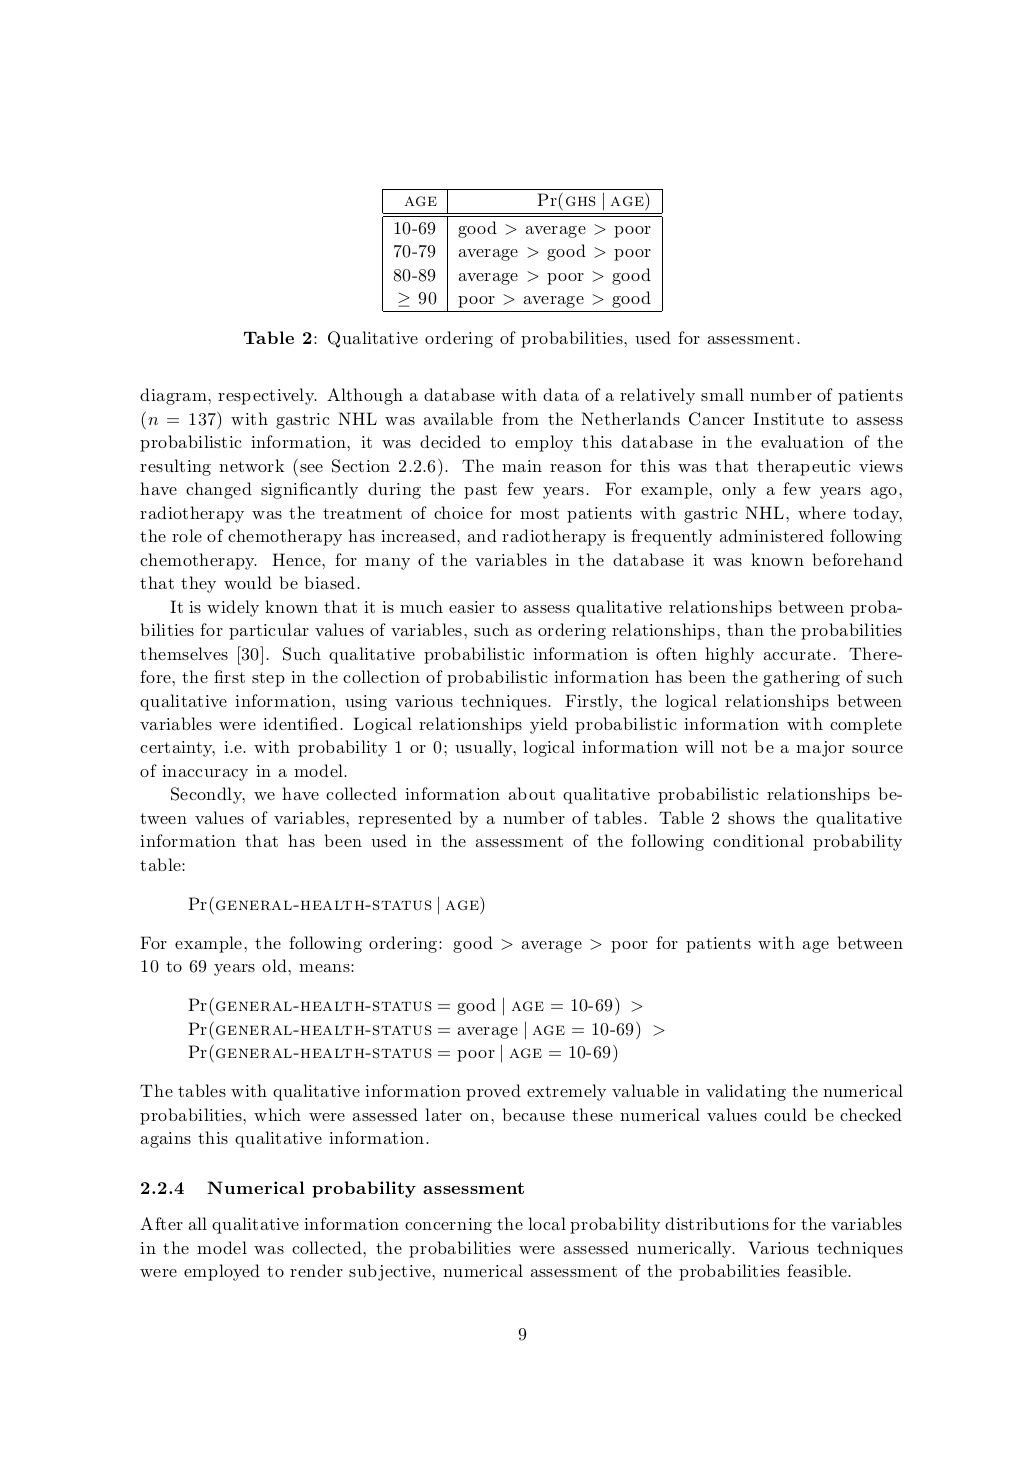Table: (382, 189, 662, 312)
formula: (187, 1020, 664, 1040), (187, 996, 642, 1016), (187, 1043, 617, 1063), (187, 895, 484, 915)
